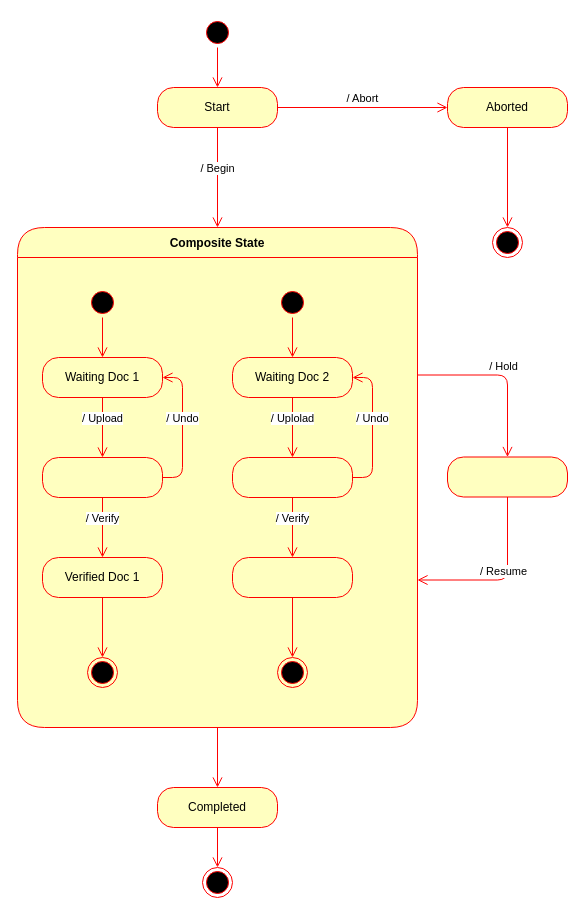
This 585x915 diagram has some shape labels left out. Each missing label, with the centre of its shape:
"On Hold" goes at point 507,476.
"Uploaded Doc 1" goes at point 102,477.
"Uploaded Doc 2" goes at point 292,477.
"Verified Doc 2" goes at point 292,577.
